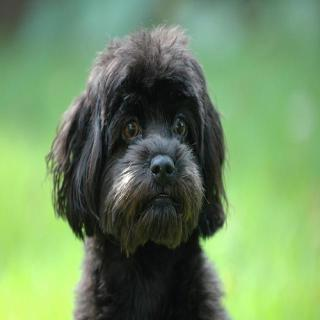dog: (41, 22, 233, 254)
nose: (148, 154, 180, 180)
